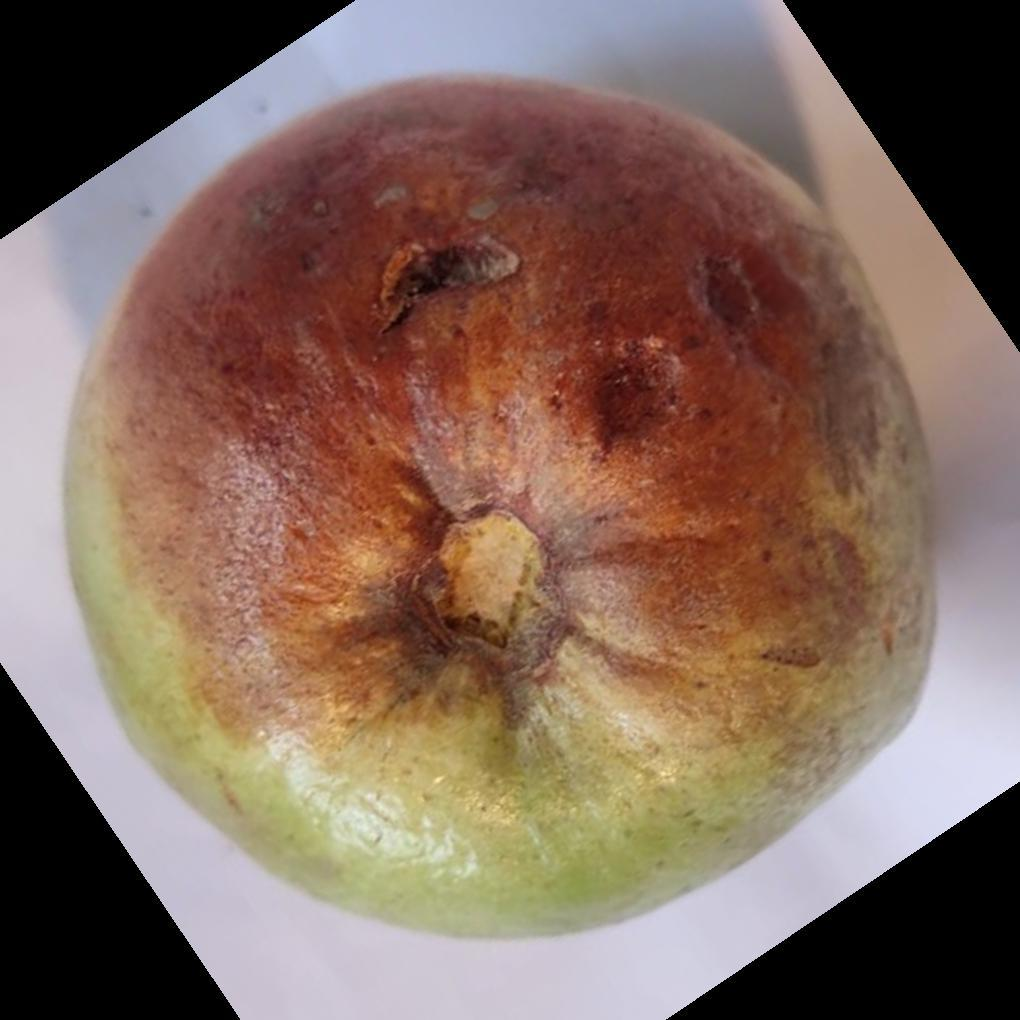FreshOrange: (60, 74, 938, 945)
